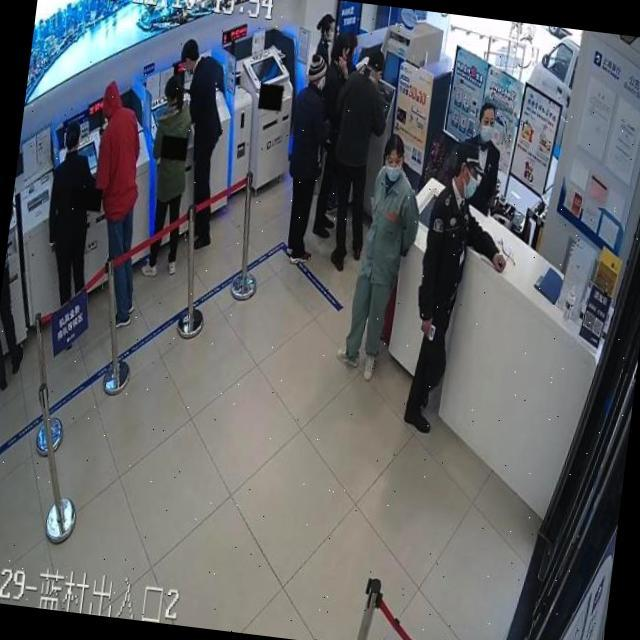person: (402, 140, 520, 441), (334, 130, 429, 384), (72, 78, 162, 332), (319, 43, 393, 273), (158, 37, 236, 254), (274, 51, 336, 267), (36, 120, 106, 310), (138, 73, 201, 280), (304, 30, 360, 242), (0, 165, 44, 388), (455, 101, 507, 218), (310, 12, 338, 82), (340, 32, 360, 79), (340, 32, 359, 78)
